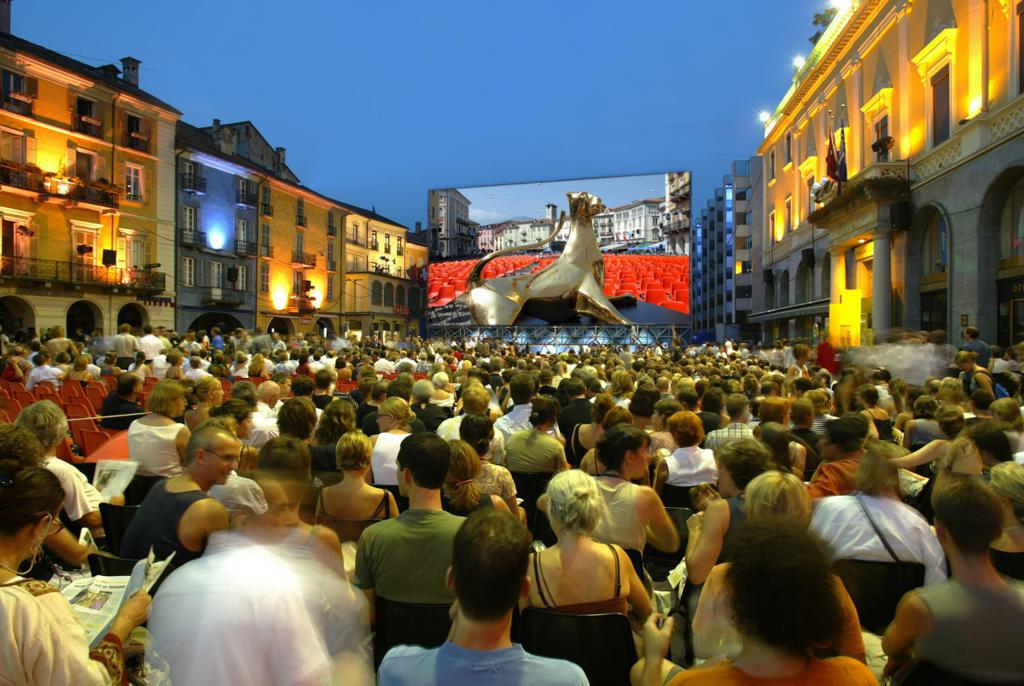face: (33, 494, 61, 556), (207, 441, 240, 484), (623, 437, 649, 480), (717, 458, 740, 496), (395, 451, 412, 498), (819, 428, 841, 459), (377, 404, 395, 432), (208, 383, 224, 407), (173, 391, 188, 416), (991, 405, 1005, 429), (278, 379, 292, 401), (131, 378, 145, 396), (551, 406, 560, 429), (269, 389, 280, 407), (956, 359, 970, 373), (802, 348, 813, 363), (794, 382, 803, 398), (963, 329, 971, 339)
